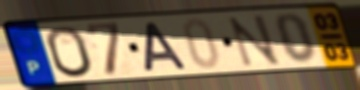0: (273, 11, 320, 65), (180, 17, 224, 72)
7: (84, 21, 125, 78)
A: (143, 20, 191, 73)
N: (225, 13, 284, 69)
O: (44, 25, 96, 80)
